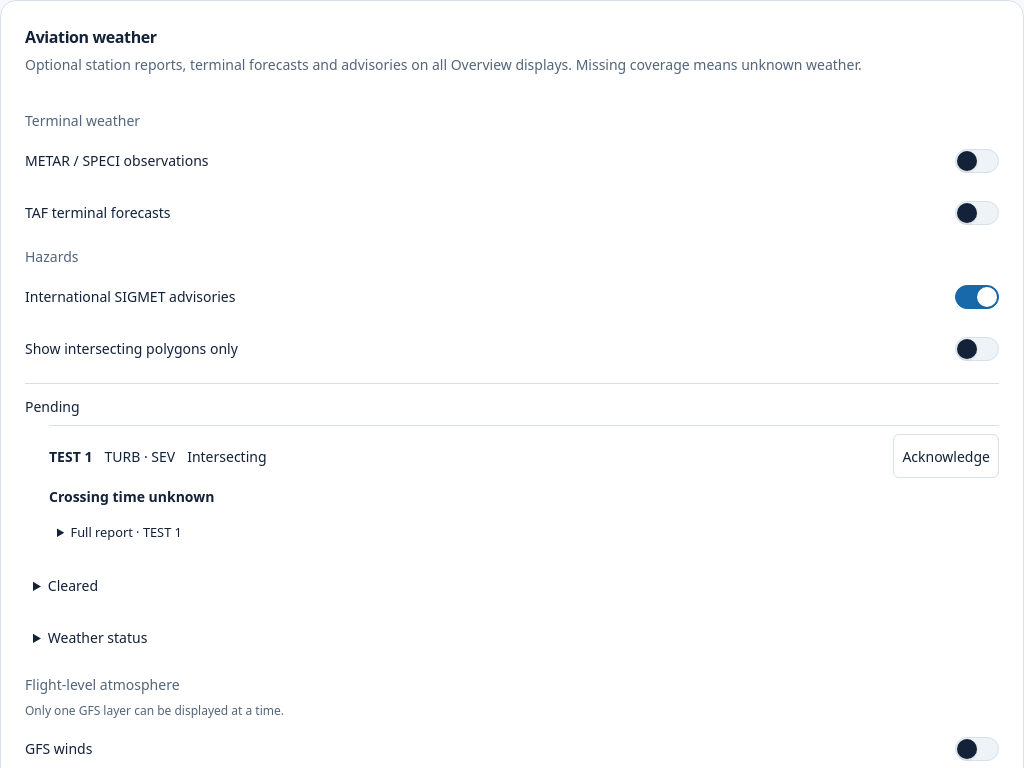
failed_clear_keeps_notice_pending with an enabled retry and truthful error
Click the button "Acknowledge" at (946, 456), box left=893, top=434, right=999, bottom=478
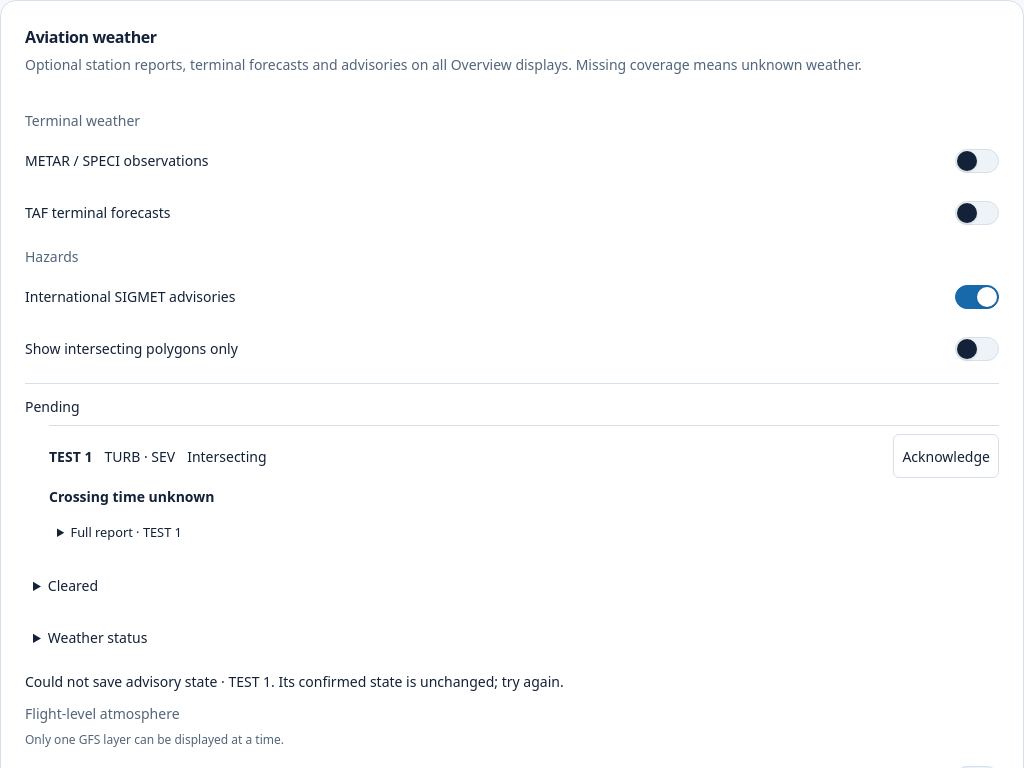
Expected: the message is shown, left=25, top=672, right=564, bottom=691
